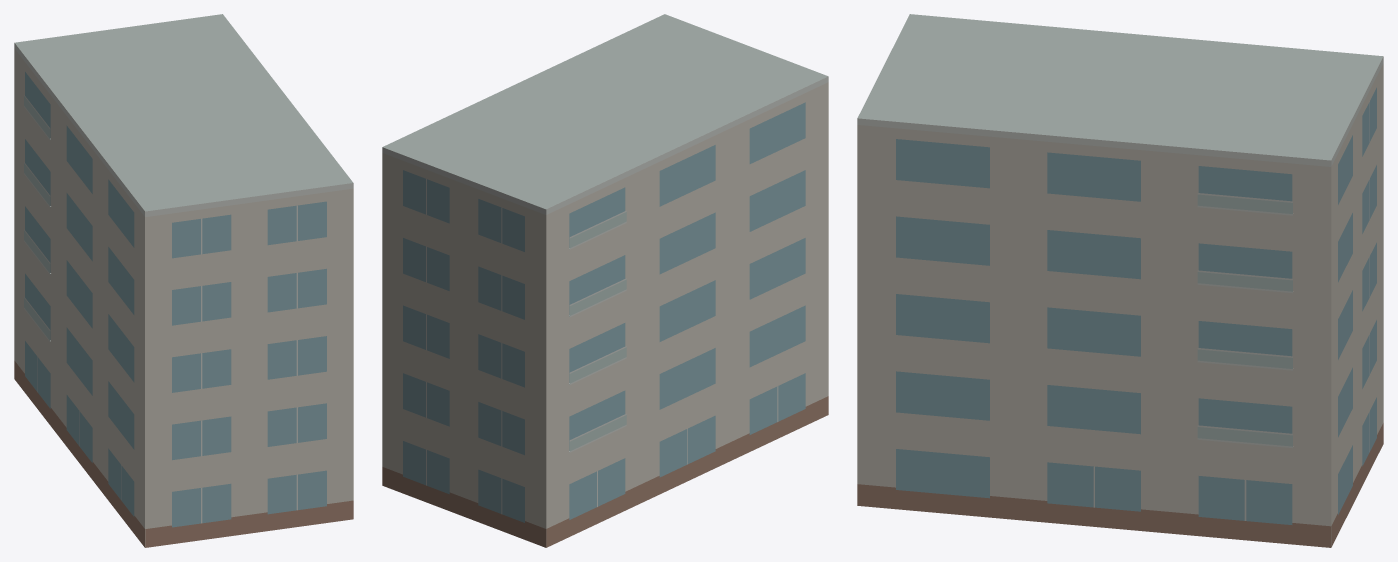
Rendered from survey-upis-32653344.glb.
3 views of the same model, side by side, from view 1: azimuth 30°, elevation 25°; view 2: azimuth 150°, elevation 25°; view 3: azimuth 270°, elevation 25° (orthographic). The views are drawn at different scales.
Visible parts, largest first — view 1: survey-upis-32653344.tmp; view 2: survey-upis-32653344.tmp; view 3: survey-upis-32653344.tmp.
Boxes of the visible parts, x1=… form: survey-upis-32653344.tmp: x1=14, y1=14, x2=353, y2=547; survey-upis-32653344.tmp: x1=382, y1=14, x2=828, y2=547; survey-upis-32653344.tmp: x1=857, y1=14, x2=1383, y2=547.
Size of the model in its own units: 11.81 by 14.55 by 17.93.
